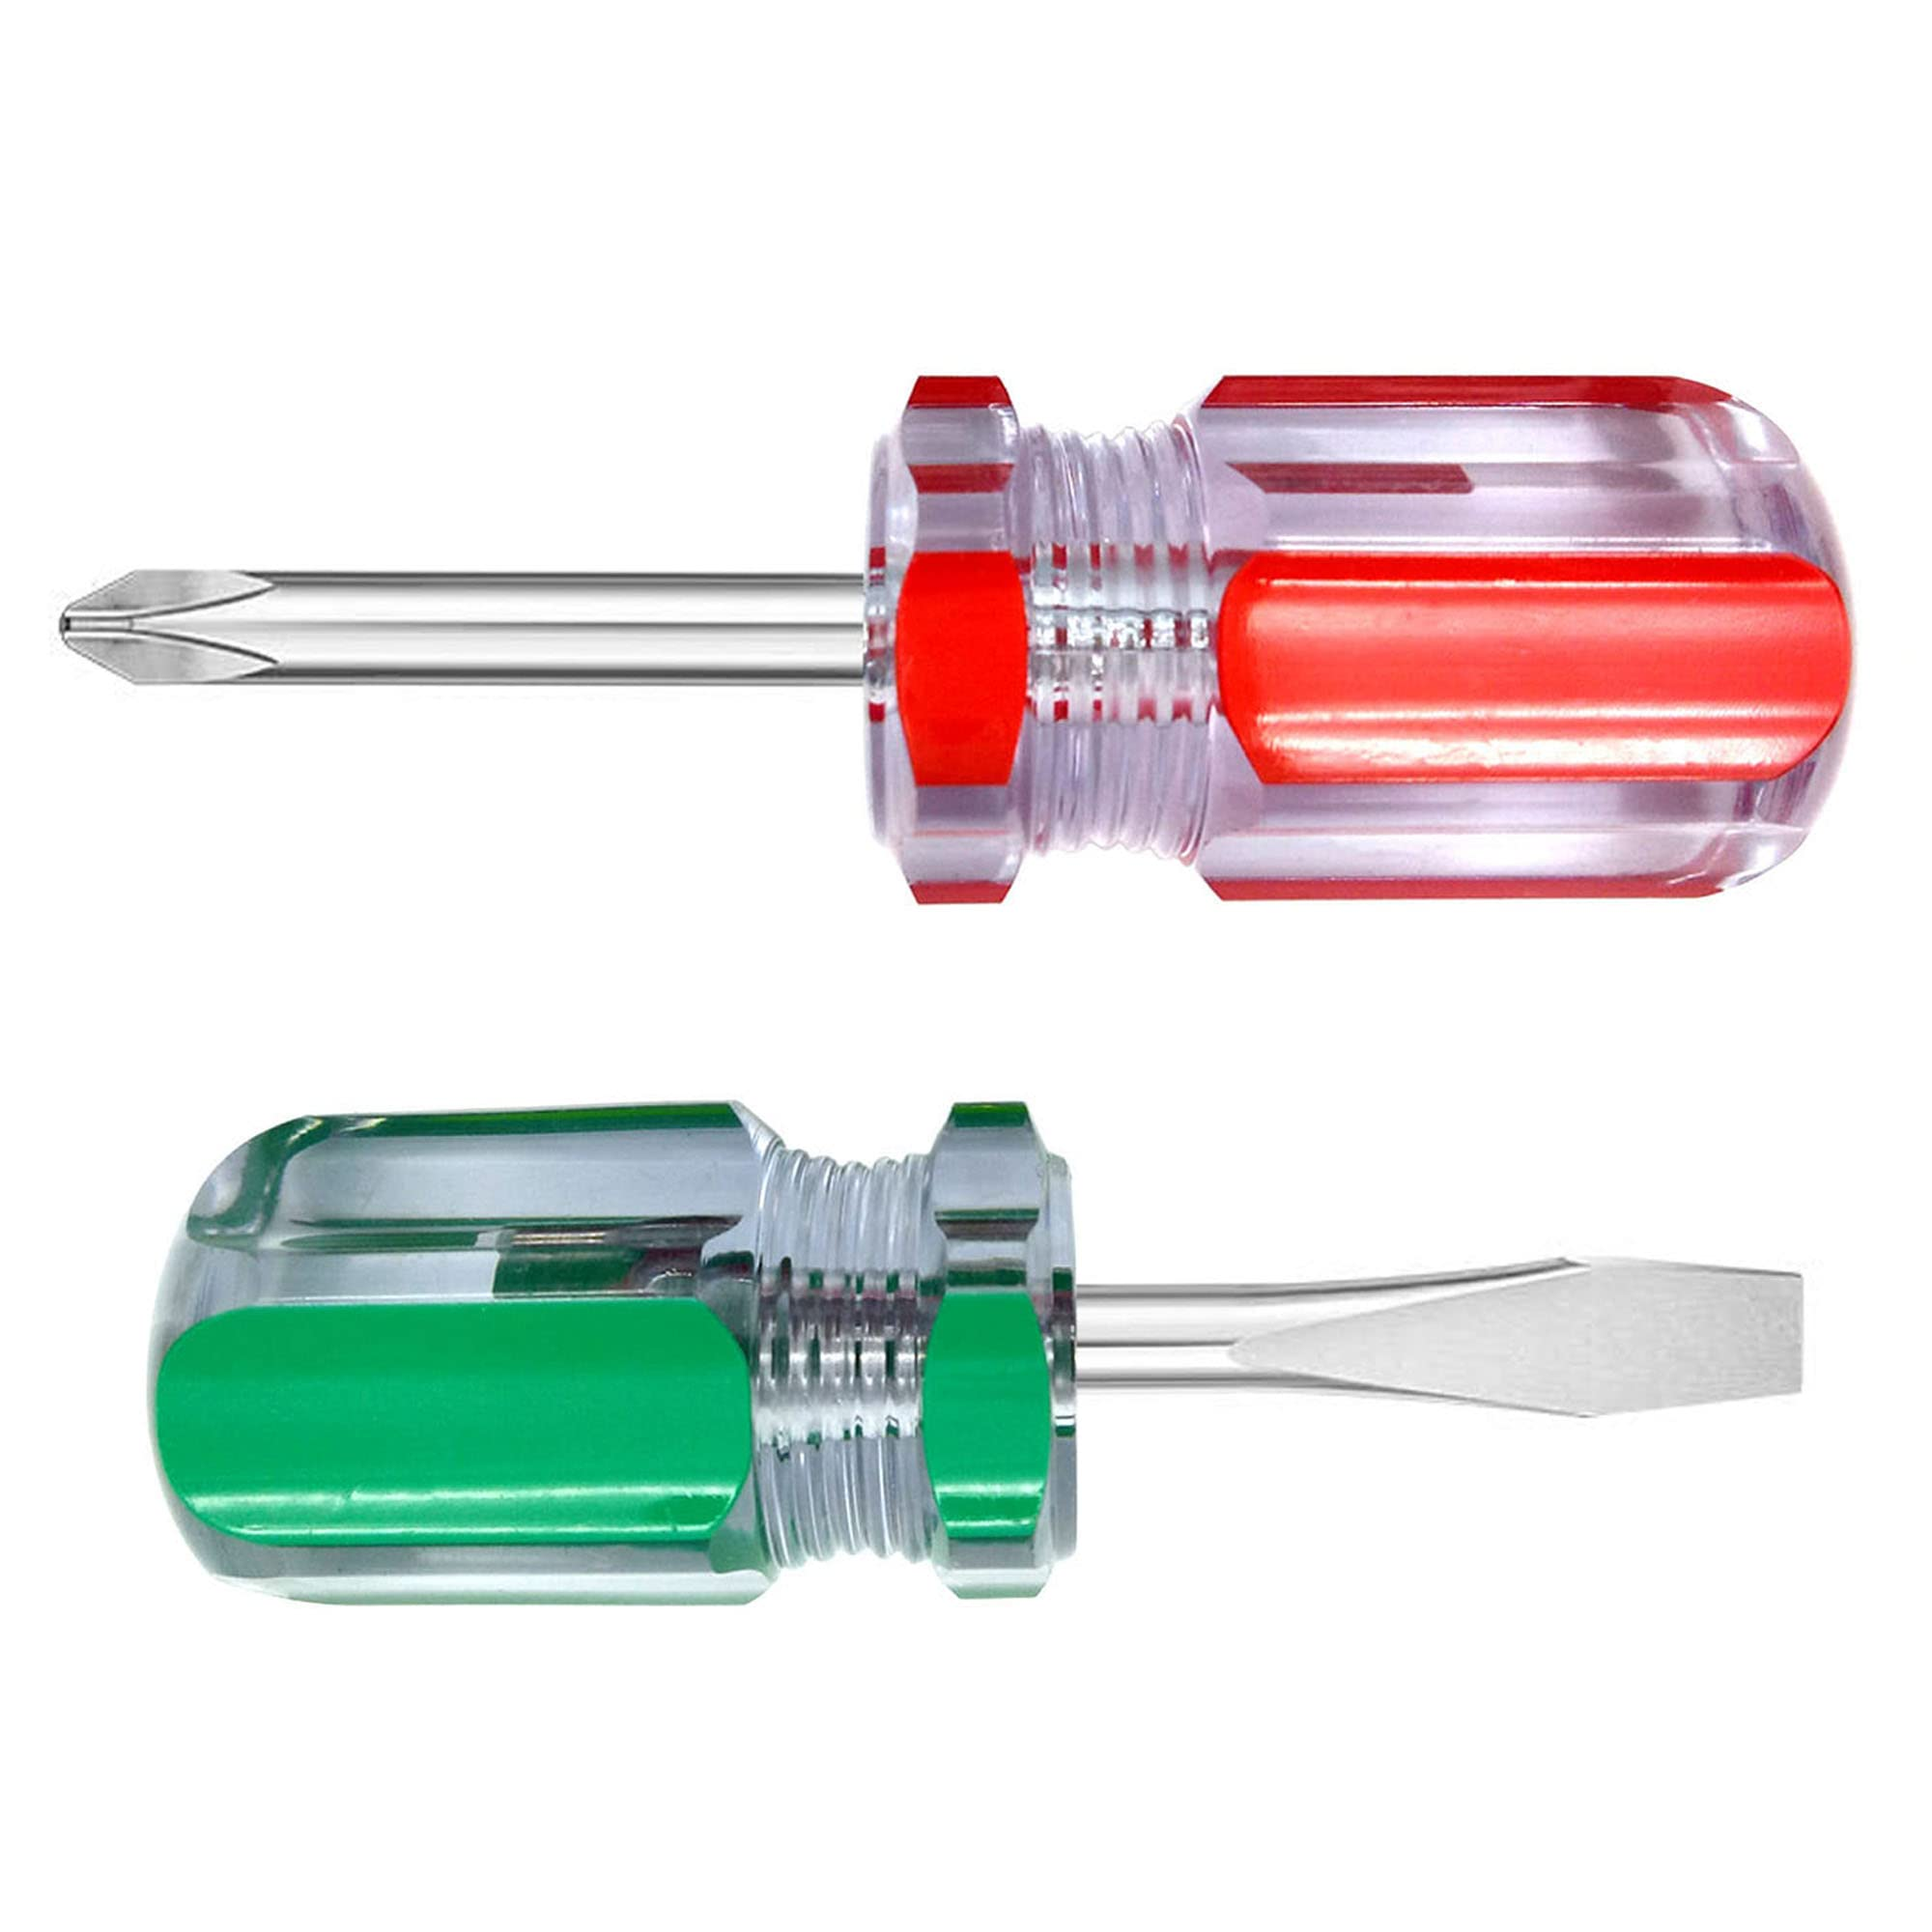screwdriver: (53, 356, 1865, 915), (149, 1093, 1849, 1624)
